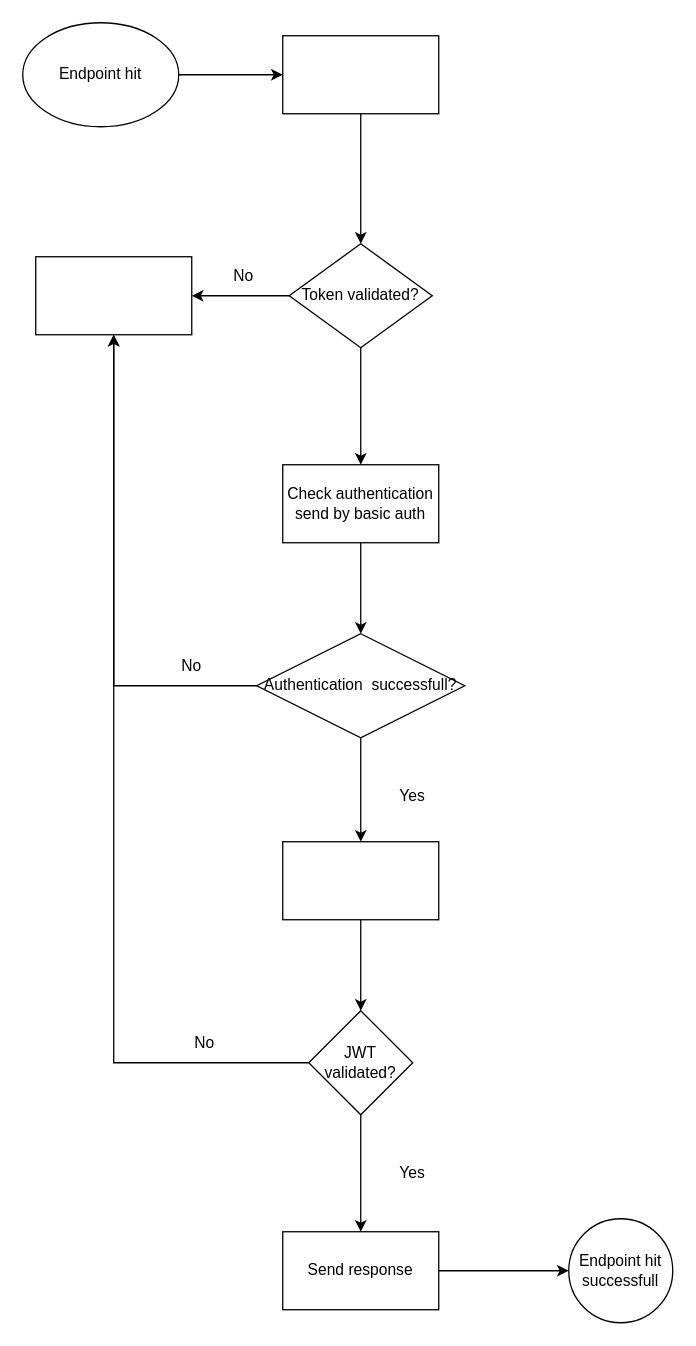
Image size: 696x1346. Some labels were removed from this diagram. The shapes that lost their labels are listed below. From the top down, each one's centre as x and y in pixels, then its label:
At [360,74]: "Check authorization token".
At [113,295]: "Reject endpoint hit".
At [360,880]: "Check JWT token".
